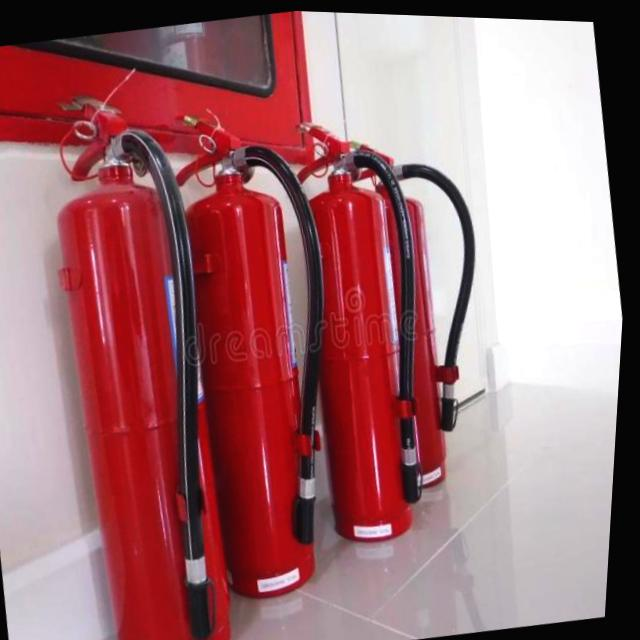FireExtinguisher: (12, 68, 280, 640), (137, 84, 390, 613), (259, 93, 470, 553), (314, 111, 526, 506)
